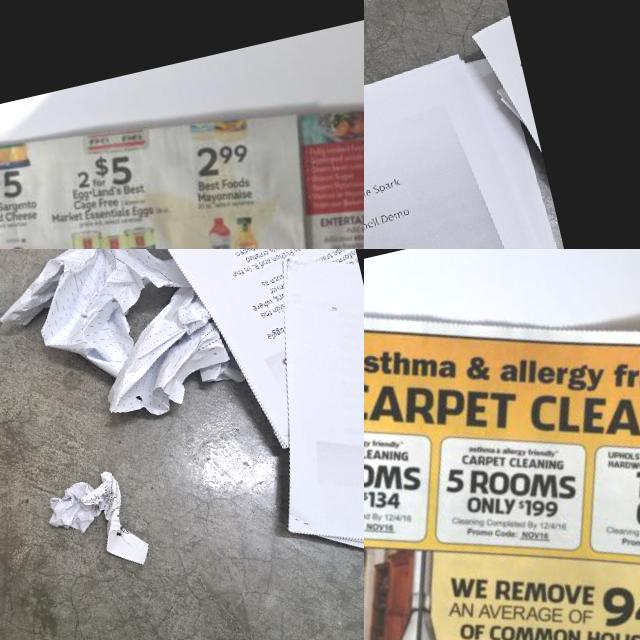papel: (364, 249, 640, 640), (0, 25, 364, 249), (364, 6, 592, 249), (228, 249, 364, 621), (137, 249, 364, 470), (0, 249, 205, 398), (86, 277, 249, 425), (41, 464, 152, 582)
